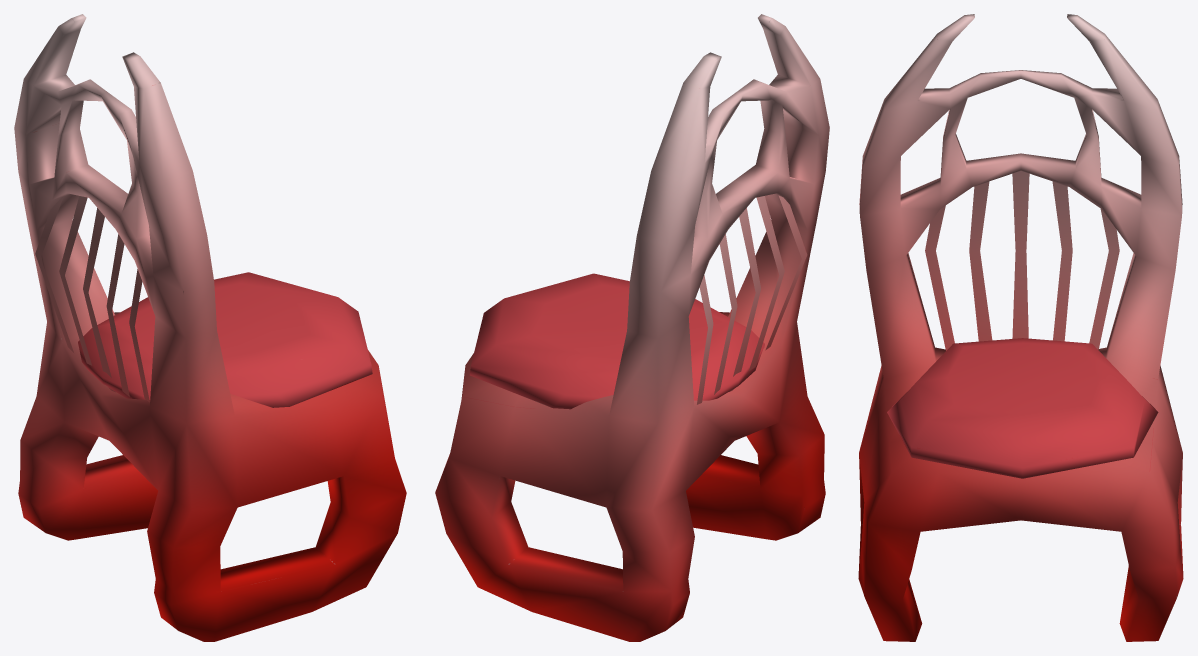
Rendered from VartraChair2.fbx.
3 renders of one model, left to right at view 1: azimuth 30°, elevation 25°; view 2: azimuth 150°, elevation 25°; view 3: azimuth 270°, elevation 25°, orthographic. The views are drawn at different scales.
Visible parts, largest first — view 1: Plane.007; view 2: Plane.007; view 3: Plane.007.
Part boxes in pixels (x1=…): Plane.007: x1=14, y1=14, x2=406, y2=641; Plane.007: x1=435, y1=14, x2=829, y2=641; Plane.007: x1=858, y1=14, x2=1183, y2=641.
Size of the model in its own units: 82.9 by 160 by 86.67.
